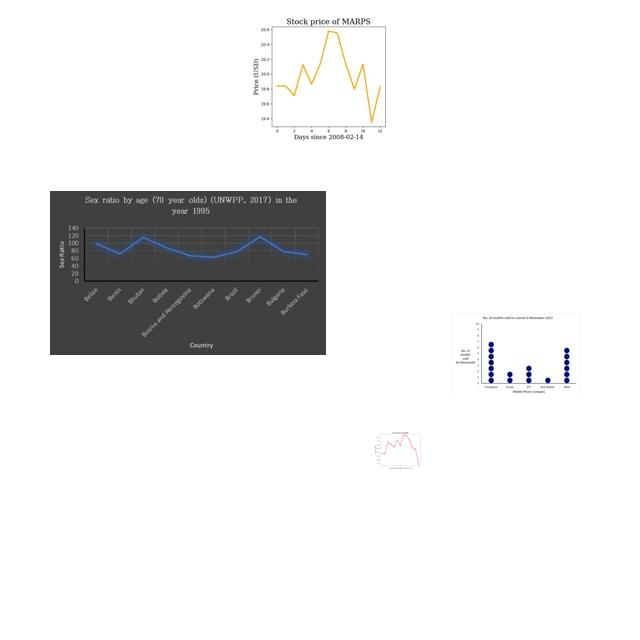Graph: (50, 191, 326, 355), (240, 11, 413, 141), (451, 313, 580, 397), (370, 429, 429, 470)
